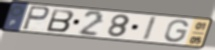2: (78, 9, 108, 38)
8: (106, 14, 131, 38)
B: (45, 8, 76, 33)
G: (163, 19, 190, 43)
I: (141, 16, 159, 42)
P: (20, 5, 51, 32)
